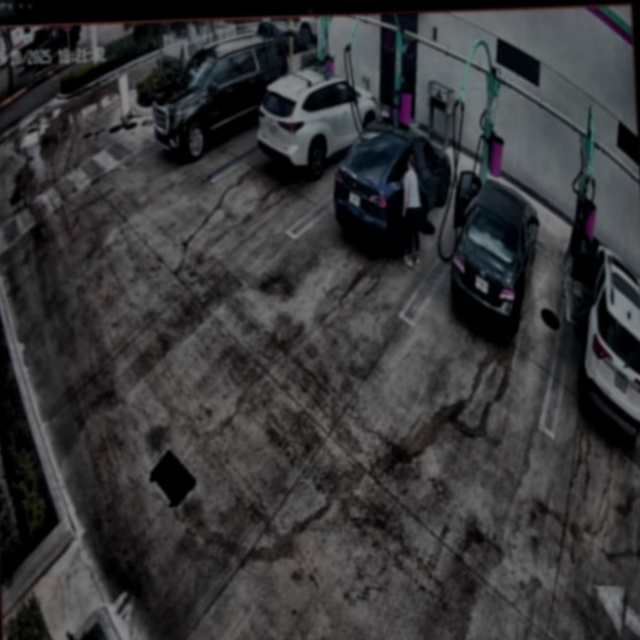Car: (332, 109, 456, 256), (447, 173, 544, 330), (257, 63, 381, 177)
